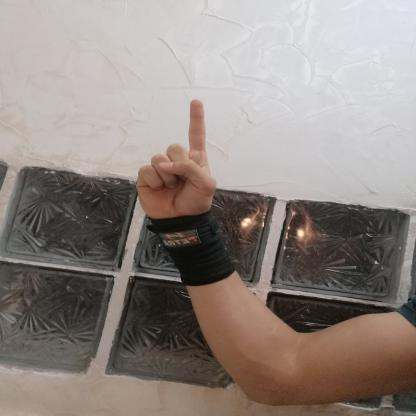BAA: (126, 88, 221, 229)
